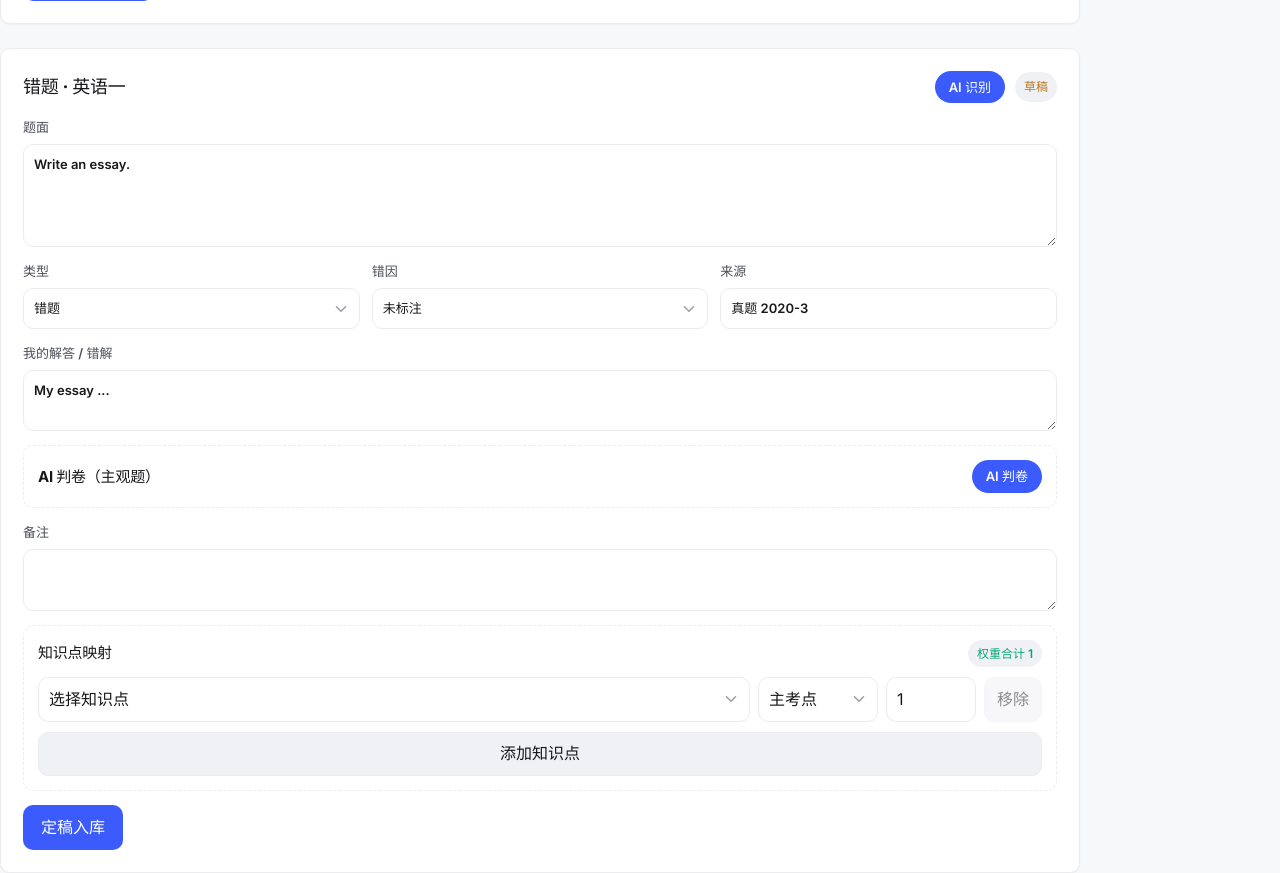
Test: ProblemsView › grades a subjective answer for gradable subjects
This screenshot has width=1280, height=873.
(page scrolled)
Expected: the element with class "grade-panel" is shown, left=23, top=445, right=1057, bottom=508
Click the button with class "ai-button" showing "AI 判卷".
click(1007, 477)  # box left=972, top=460, right=1042, bottom=493
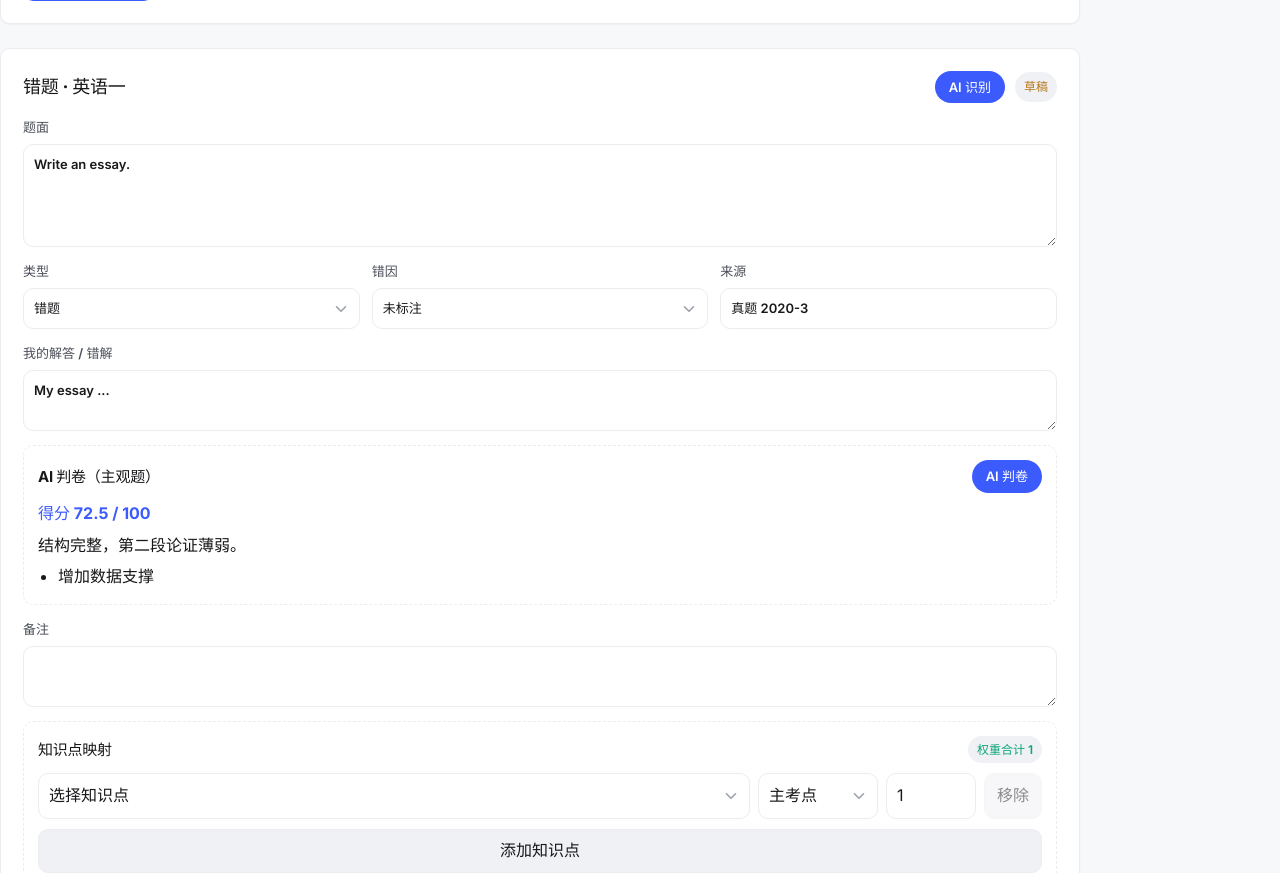
Expected: the text "得分 72.5 / 100" is shown, left=38, top=503, right=151, bottom=523
Expected: the text "论证薄弱" is shown, left=38, top=535, right=246, bottom=555
Expected: the text "增加数据支撑" is shown, left=58, top=566, right=154, bottom=586
